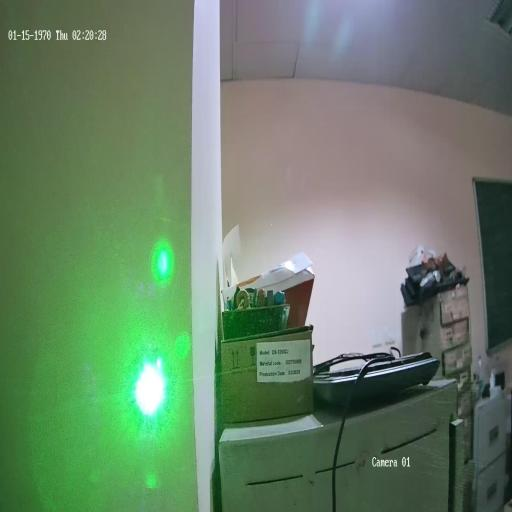laser: (128, 349, 170, 420)
